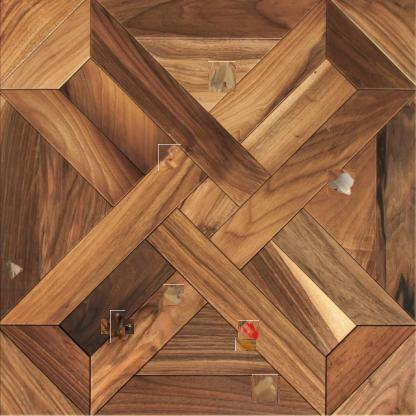dirty: (208, 62, 237, 91), (327, 169, 355, 197), (252, 375, 279, 403), (158, 144, 181, 171), (106, 314, 129, 339), (163, 284, 184, 306), (1, 259, 23, 279)
liquid: (238, 320, 259, 340), (235, 337, 256, 351)
